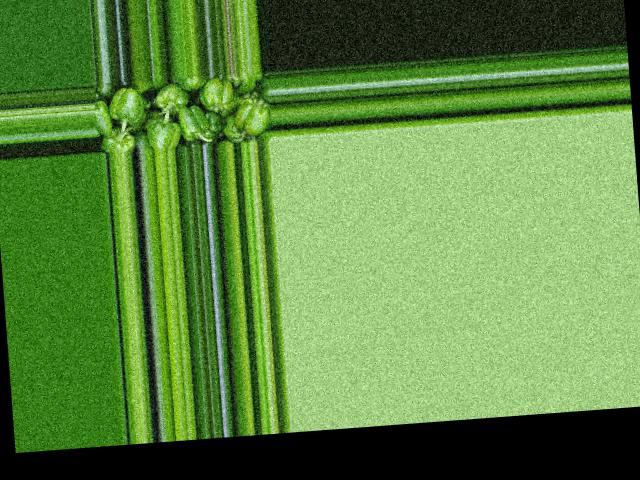bell_pepper: (95, 71, 272, 151)
